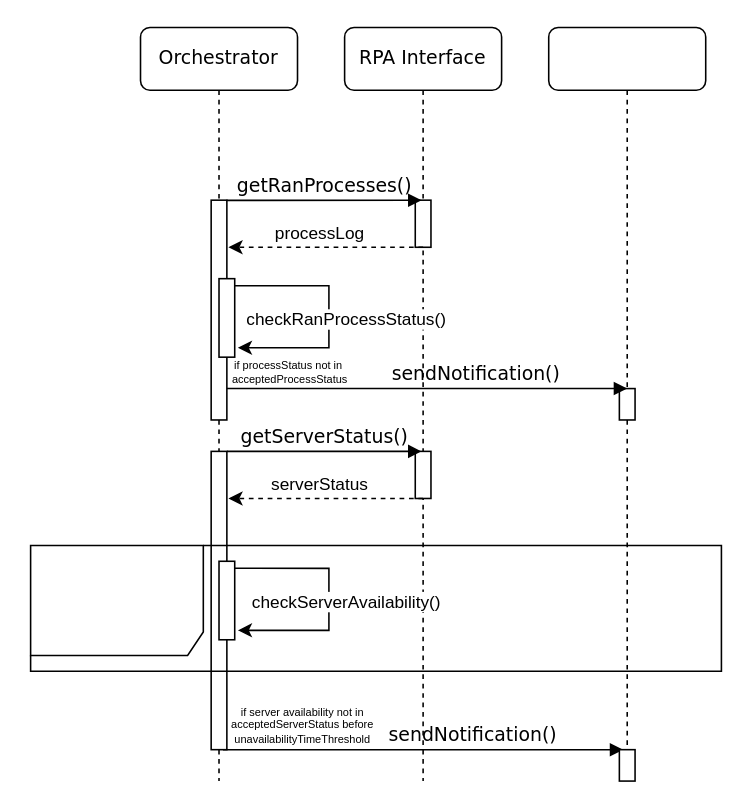
Some shapes in this 749 by 809 pixel diagram are drawn without their labels. The centre of each missing label's shape, as x and y in pixels:
"Do while not in acceptedServerStatus or past unavailabilityTimeThreshold" belongs at [375,607].
"Notification System" belongs at [626,403].
